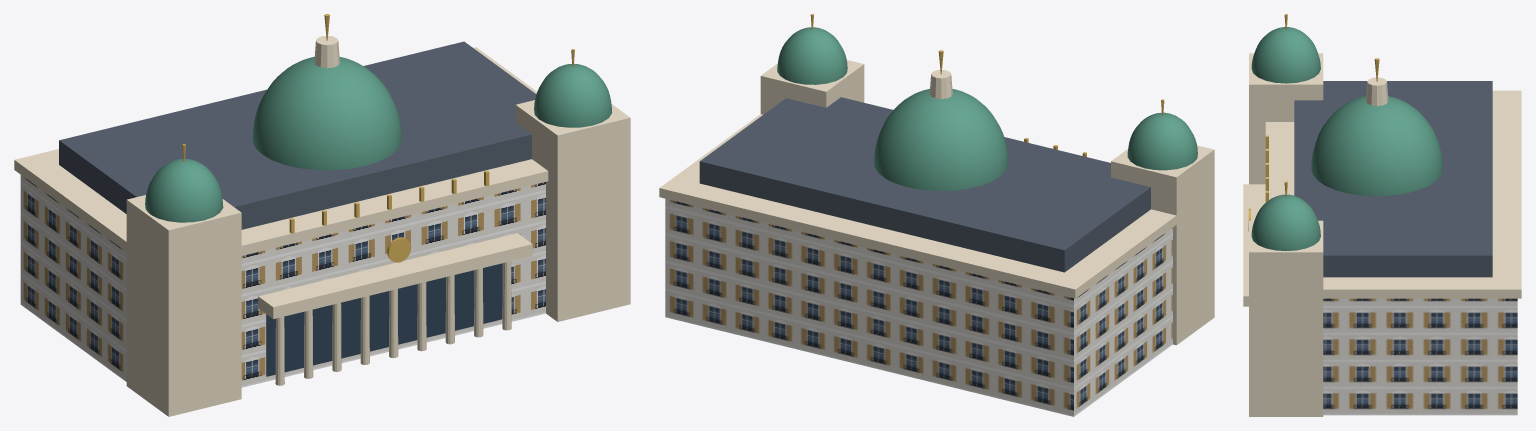
The model's file is grand_casino.glb.
The picture shows the model from 3 angles, left to right: view 1: azimuth 30°, elevation 25°; view 2: azimuth 150°, elevation 25°; view 3: azimuth 270°, elevation 25°; orthographic projection. The views are drawn at different scales.
Visible parts, largest first — view 1: casino; view 2: casino; view 3: casino.
Boxes of the visible parts, left/top/right/bottom form: casino: left=14, top=14, right=630, bottom=416; casino: left=659, top=14, right=1214, bottom=416; casino: left=1243, top=14, right=1521, bottom=416.
Bounding box in the file's own units: 57 × 34.5 × 33.7.
Materials: 6 (1 with a texture image).
